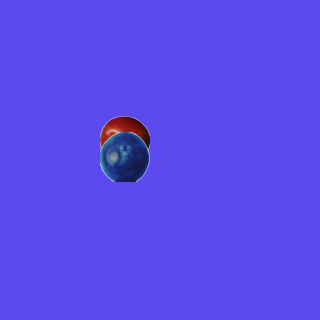Apple Braeburn: (99, 115, 149, 165)
Huckleberry: (99, 131, 149, 181)
